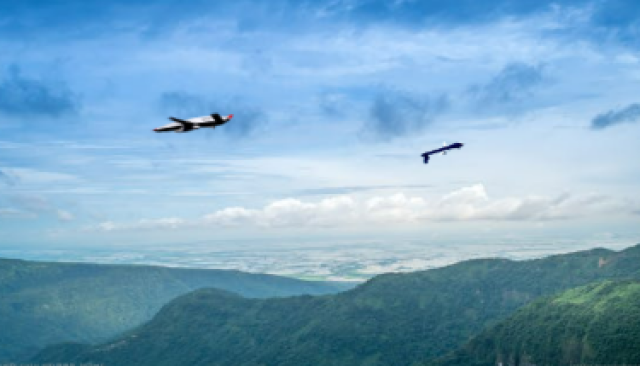military drone: (150, 112, 233, 133), (419, 140, 466, 164)
